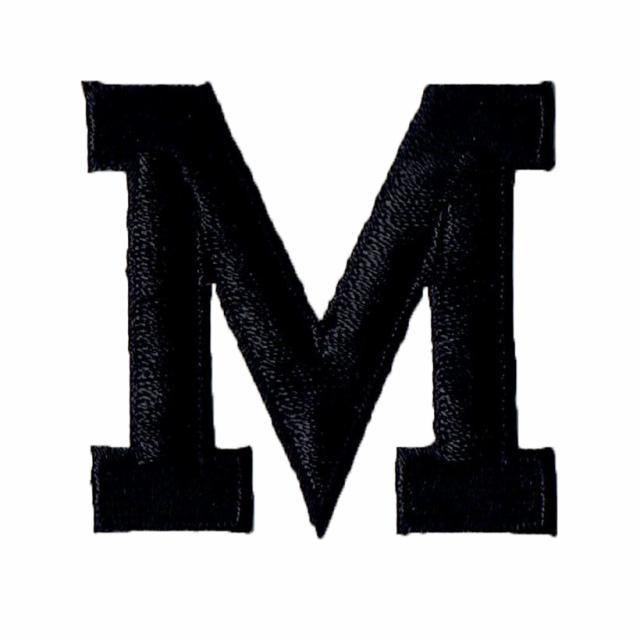M: (56, 56, 584, 568)
